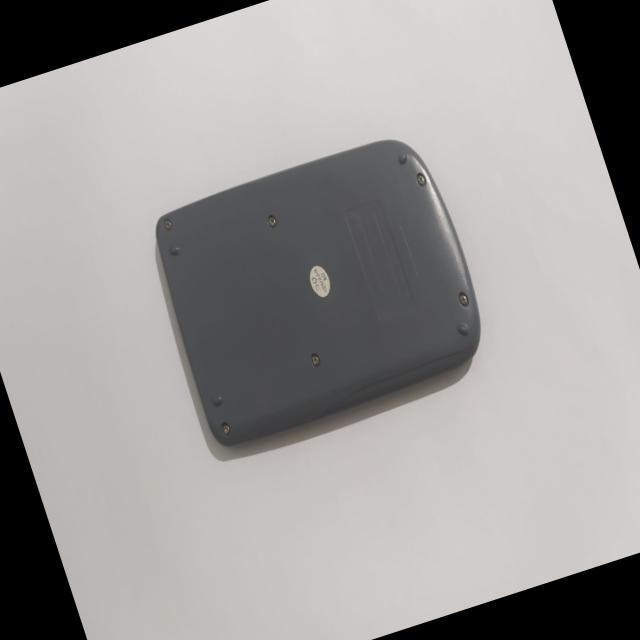Calculator: (140, 128, 496, 456)
